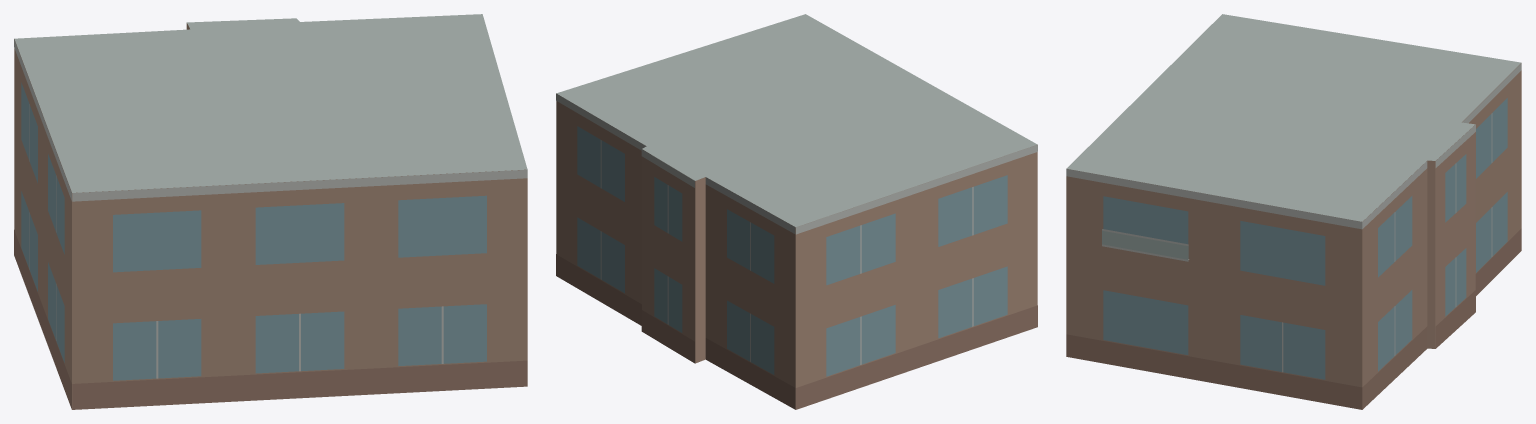
File: survey-upis-32668615.glb
3 renders of one model, left to right at view 1: azimuth 30°, elevation 25°; view 2: azimuth 150°, elevation 25°; view 3: azimuth 270°, elevation 25°, orthographic. The views are drawn at different scales.
Visible parts, largest first — view 1: survey-upis-32668615.tmp; view 2: survey-upis-32668615.tmp; view 3: survey-upis-32668615.tmp.
Boxes of the visible parts, bbox=[...] form: survey-upis-32668615.tmp: bbox=[14, 14, 527, 409]; survey-upis-32668615.tmp: bbox=[556, 14, 1037, 409]; survey-upis-32668615.tmp: bbox=[1066, 14, 1521, 409].
Bounding box in the file's own units: 14.47 × 6.1 × 13.39.
